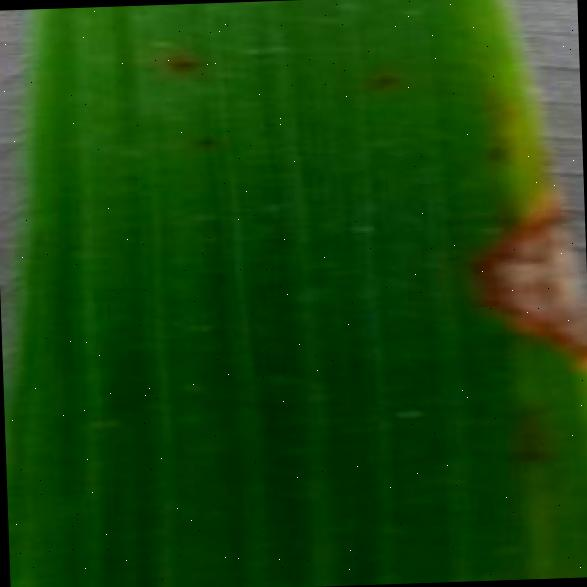Leaf_smut: (432, 173, 587, 392)
